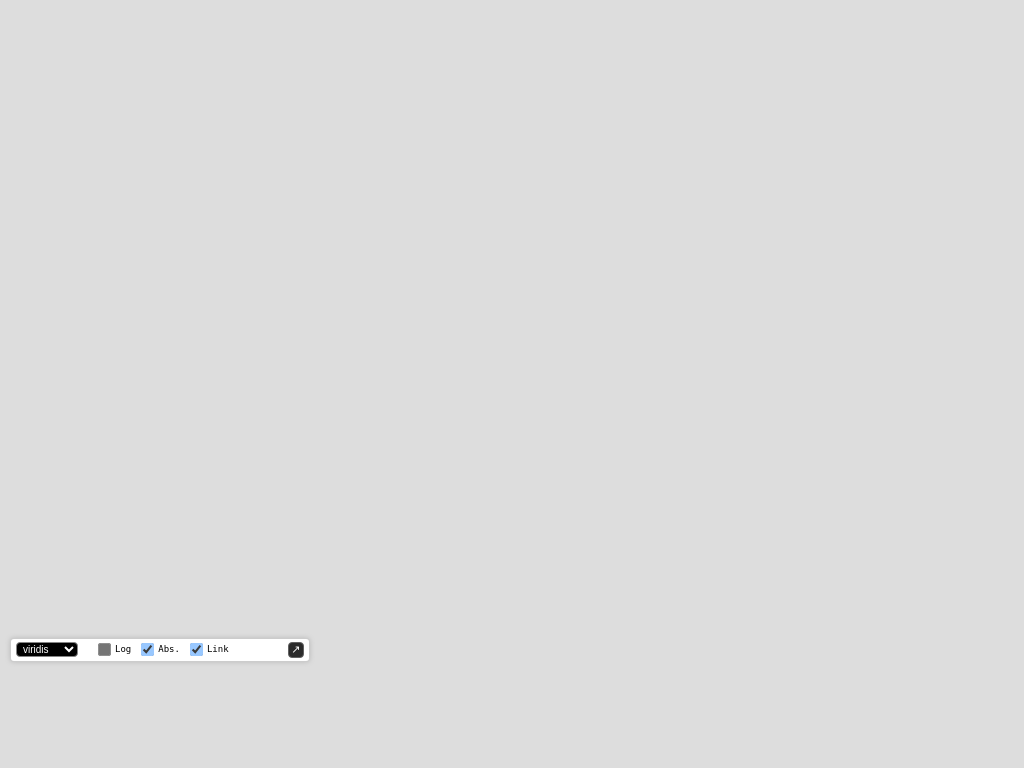
Test: dialog: edge cases › reopening reflects changes made in the panel since it was last open
Earlier steps of the test are not shown.
Click the button with class "dialog-popout-btn": point(296, 650) [288,642,304,658]
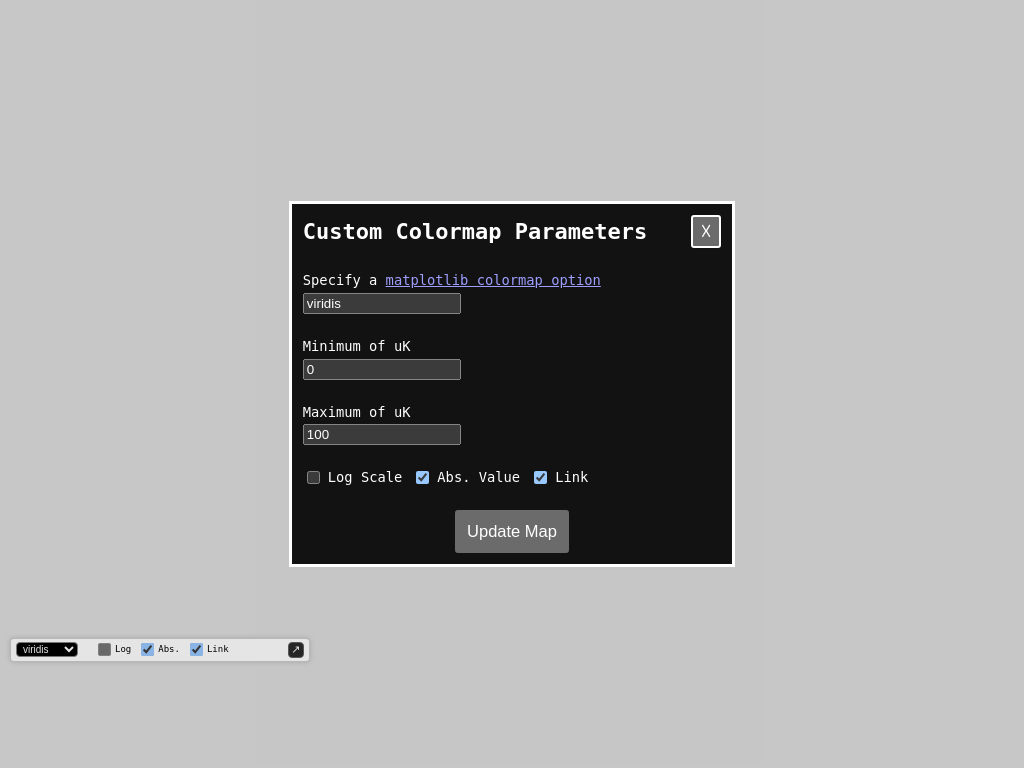
Expected: the checkbox labelled "Link" is checked, [534,470,547,485]
Expected: the checkbox labelled "Abs. Value" is checked, [416,470,429,485]
Expected: the number field labelled "Minimum of uK" holds "0", [303,358,461,380]
